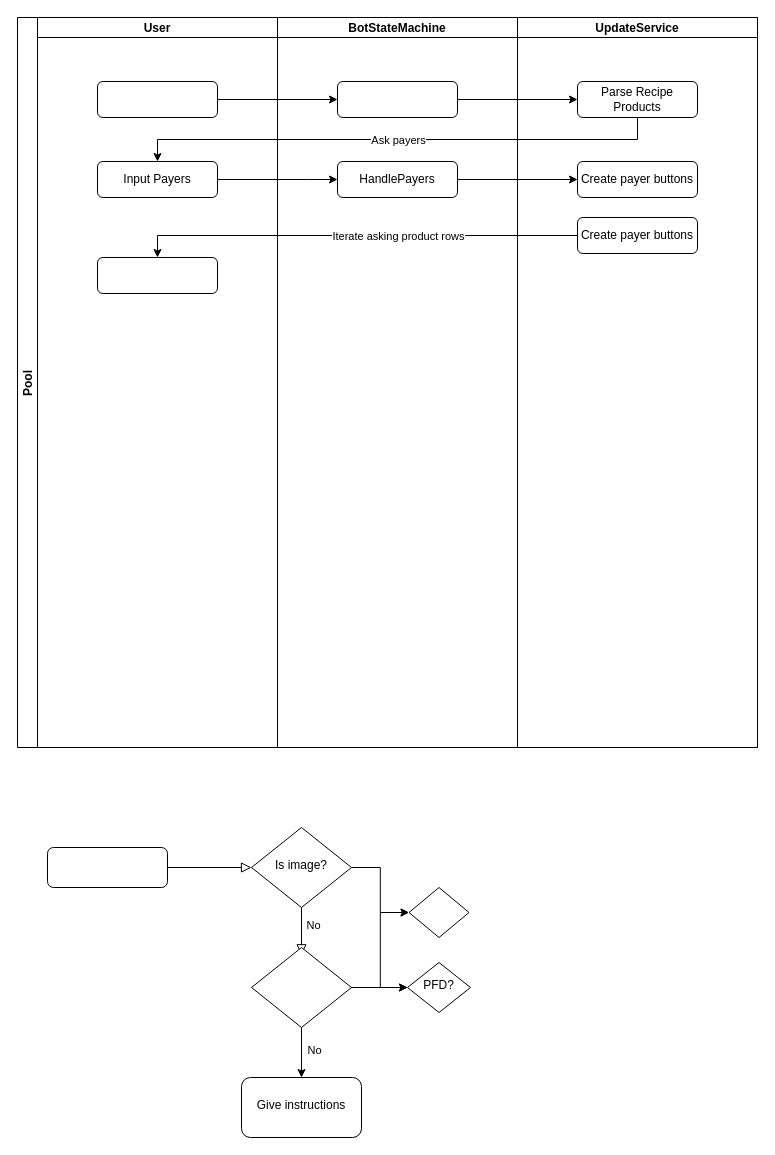
This 775x1155 diagram has some shape labels left out. The centre of each missing label's shape, as x and y in pixels:
"First Message" goes at point (107, 867).
"HandleReceipt" goes at point (397, 99).
"Input correct payer" goes at point (157, 275).
"Is Document?" goes at point (301, 987).
"JPG?" goes at point (438, 912).
"UploadDocument" goes at point (157, 99).
